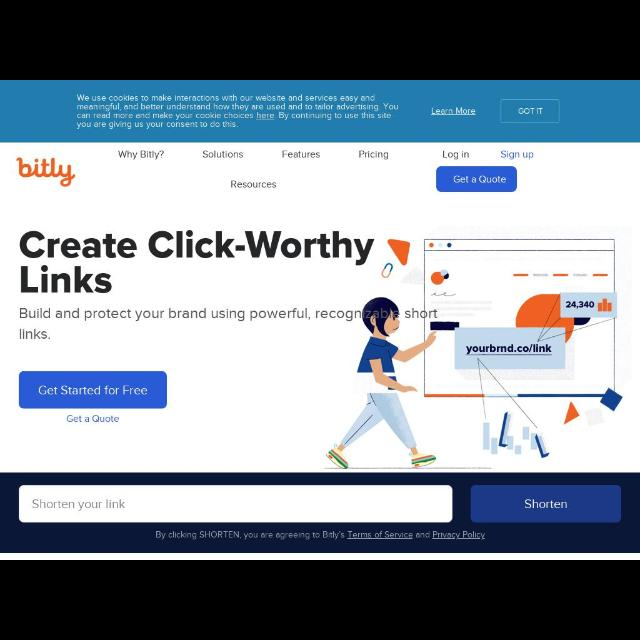backgroundimage: (1, 144, 639, 472)
image: (18, 157, 76, 187)
input: (20, 486, 452, 522)
text: (20, 231, 376, 293), (19, 308, 440, 339), (77, 94, 400, 130), (156, 532, 487, 540), (37, 384, 147, 396), (32, 498, 126, 512), (66, 414, 120, 424), (117, 150, 163, 160), (432, 107, 476, 117), (524, 499, 568, 509), (282, 150, 320, 160), (231, 180, 277, 188), (454, 175, 506, 182), (202, 150, 244, 158), (501, 150, 534, 160), (359, 150, 389, 160), (442, 150, 470, 160), (518, 106, 544, 114)
textbutton: (470, 486, 622, 522), (19, 372, 167, 408), (438, 166, 516, 192), (501, 98, 561, 124)
